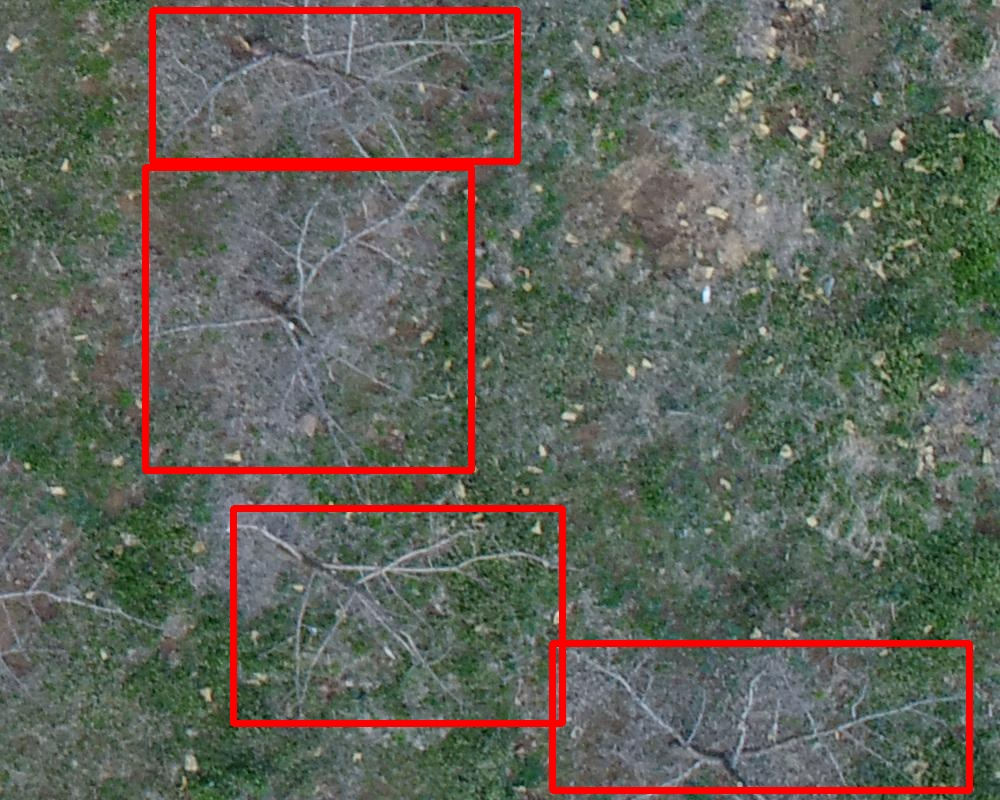apple: (145, 167, 471, 470), (233, 508, 562, 723), (552, 643, 969, 790), (152, 10, 517, 161)
